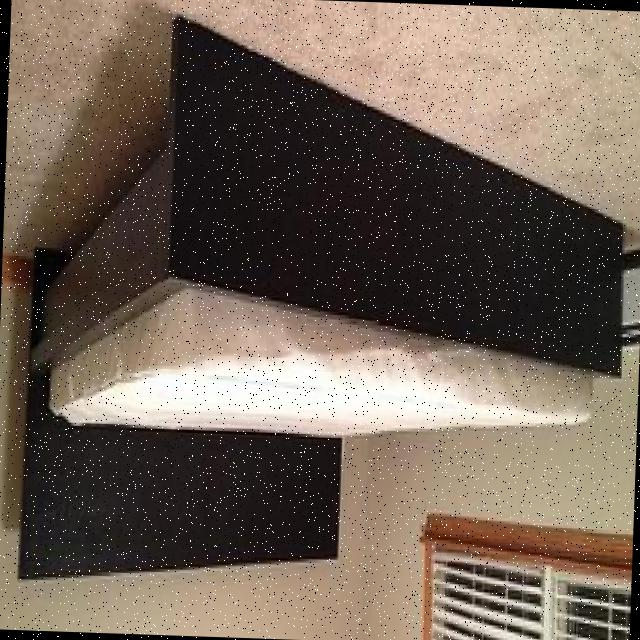Bed: (4, 4, 638, 608)
